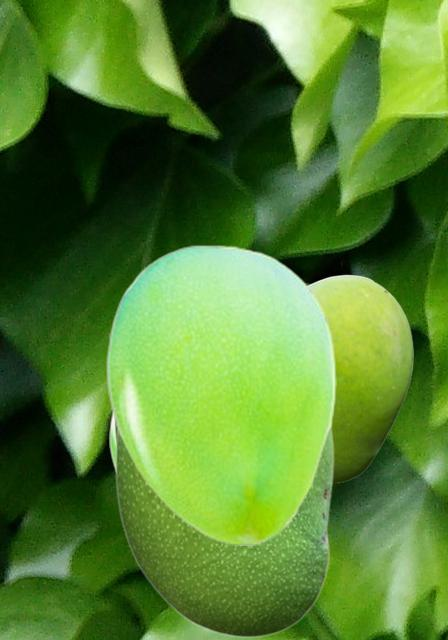green_mango: (105, 244, 335, 544), (114, 428, 333, 637), (308, 274, 412, 482)
